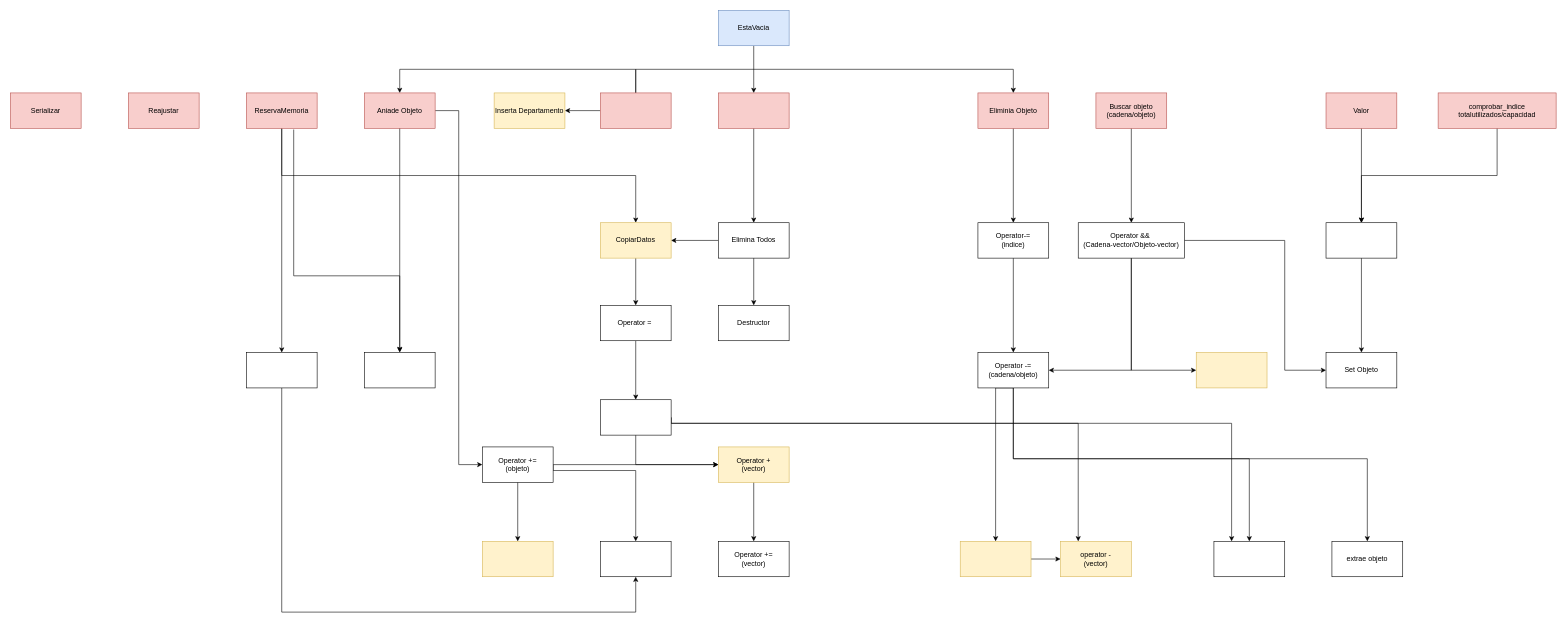
Image size: 1566x627. Some labels were removed from this diagram. The box of each missing label's shape, as (x1, y1, x2, y2) in pixels:
Constructor capacidad: (246, 352, 317, 388)
Constructor copia: (600, 399, 671, 435)
Constructor Objeto: (364, 352, 435, 388)
Liberamemoria: (718, 92, 789, 128)
Operator && (Vector-Vector): (1196, 352, 1267, 388)
Operator ()/[] (const/no-const): (1325, 222, 1397, 258)
Operator *: (482, 541, 553, 577)
Operator + (objeto): (600, 541, 671, 577)
operator - (cadena/objeto): (1213, 541, 1285, 577)
Operator -= (Vector): (960, 541, 1031, 577)
Redimensionar: (600, 92, 671, 128)
